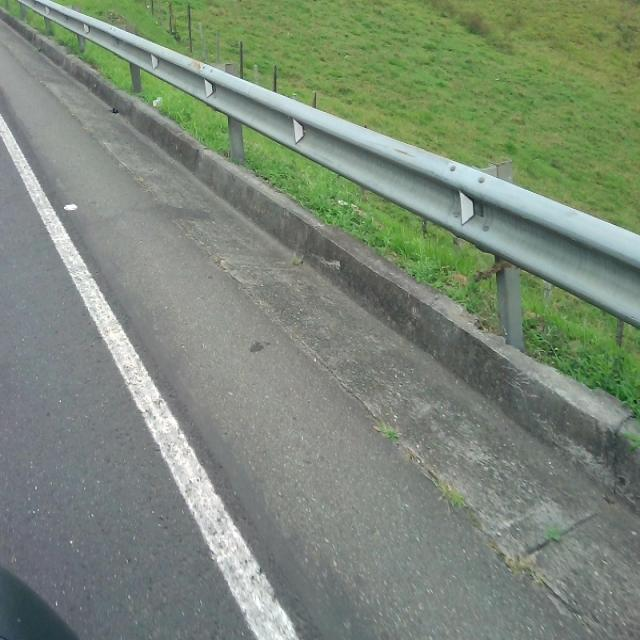DITCH: (1, 10, 638, 639), (1, 72, 638, 638)
